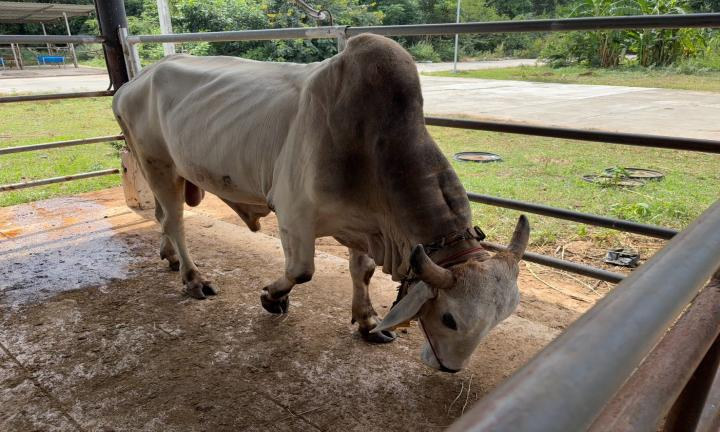Brahman: (113, 34, 529, 371)
